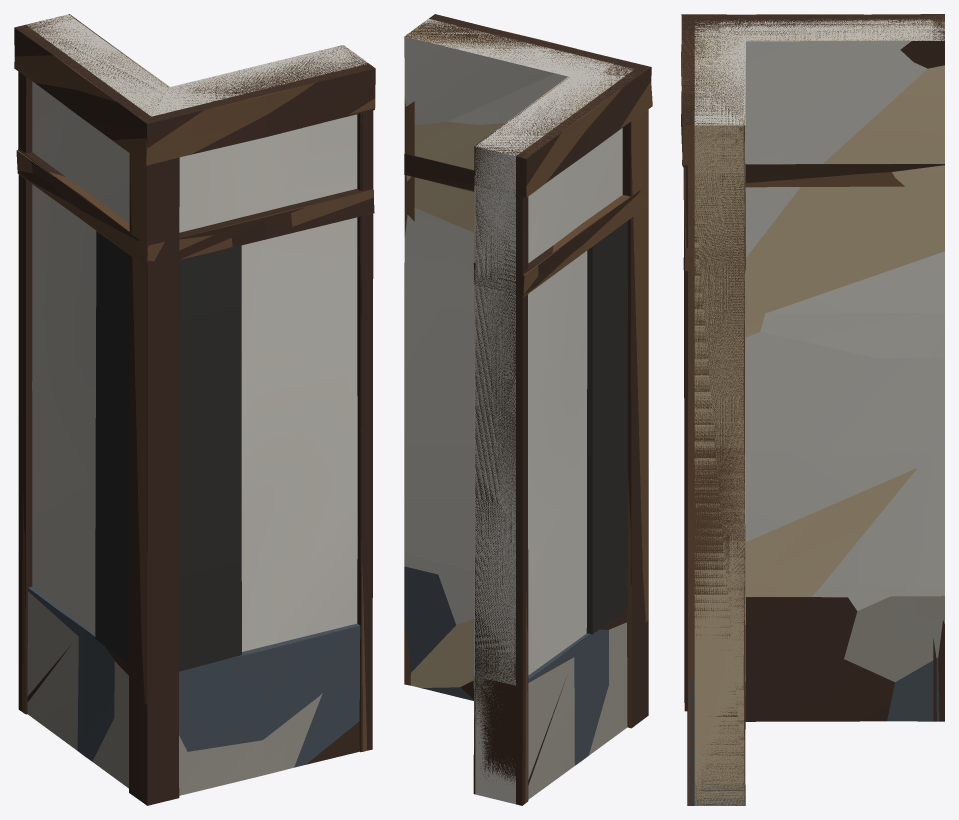
The model's file is corner.outer.glb.
The picture shows the model from 3 angles, left to right: view 1: azimuth 30°, elevation 25°; view 2: azimuth 150°, elevation 25°; view 3: azimuth 270°, elevation 25°; orthographic projection. The views are drawn at different scales.
Parts seen in each view (by area): view 1: corner.outer.v0.mesh, corner.outer.v2.mesh, corner.outer.v1.mesh; view 2: corner.outer.v2.mesh, corner.outer.v0.mesh, corner.outer.v1.mesh; view 3: corner.outer.v1.mesh, corner.outer.v2.mesh, corner.outer.v0.mesh.
Boxes of the visible parts, bbox=[...] form: corner.outer.v0.mesh: bbox=[14, 14, 375, 799]; corner.outer.v2.mesh: bbox=[18, 17, 375, 805]; corner.outer.v1.mesh: bbox=[14, 14, 375, 767]; corner.outer.v2.mesh: bbox=[404, 14, 650, 799]; corner.outer.v0.mesh: bbox=[404, 14, 651, 805]; corner.outer.v1.mesh: bbox=[404, 23, 652, 803]; corner.outer.v1.mesh: bbox=[681, 14, 944, 805]; corner.outer.v2.mesh: bbox=[681, 14, 944, 721]; corner.outer.v0.mesh: bbox=[681, 14, 944, 805].
Bounding box in the file's own units: 1.05 × 3 × 1.05.
